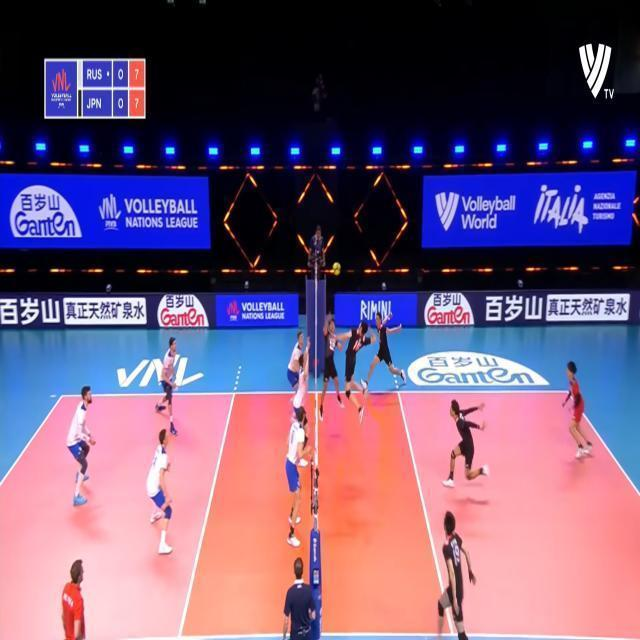volleyball: (333, 263, 341, 274)
